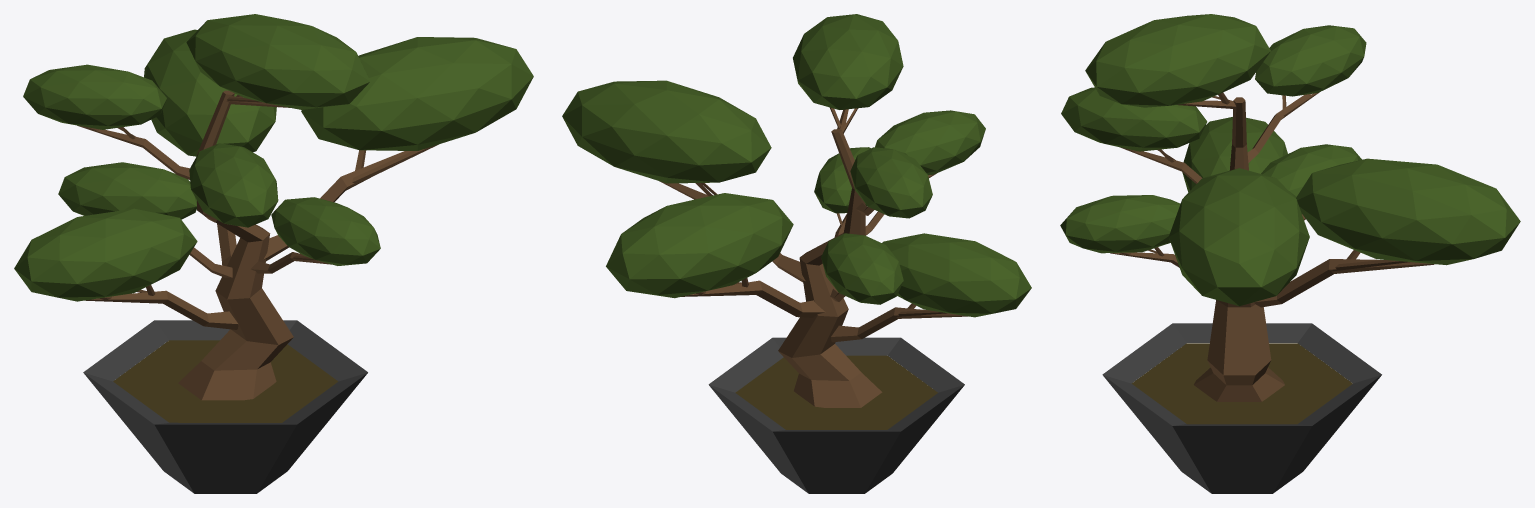
The model's file is Bonsai.gltf.
3 renders of one model, left to right at view 1: azimuth 30°, elevation 25°; view 2: azimuth 150°, elevation 25°; view 3: azimuth 270°, elevation 25°, orthographic. The views are drawn at different scales.
Visible parts, largest first — view 1: Bonsai1; view 2: Bonsai1; view 3: Bonsai1.
Part boxes in pixels (box(x1,y1,x2,y2)): Bonsai1: box(14, 14, 533, 493); Bonsai1: box(562, 14, 1031, 493); Bonsai1: box(1060, 14, 1520, 493).
Bounding box in the file's own units: 2.58 × 2.28 × 2.09.
